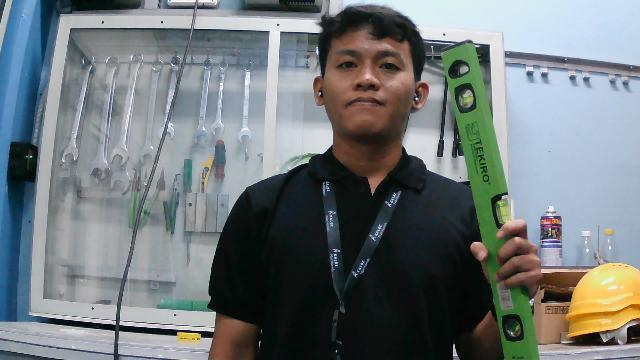water_pass: (437, 34, 541, 359)
